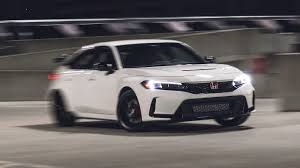car: (46, 36, 259, 128)
